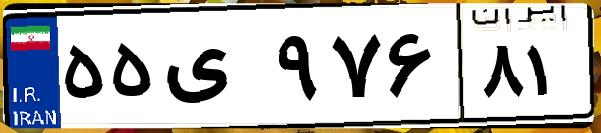1: (525, 38, 570, 115)
5: (57, 26, 110, 100), (110, 28, 158, 98)
6: (385, 28, 445, 110)
7: (330, 28, 385, 110)
8: (475, 38, 525, 113)
9: (270, 28, 330, 110)
ی: (158, 20, 270, 120)
